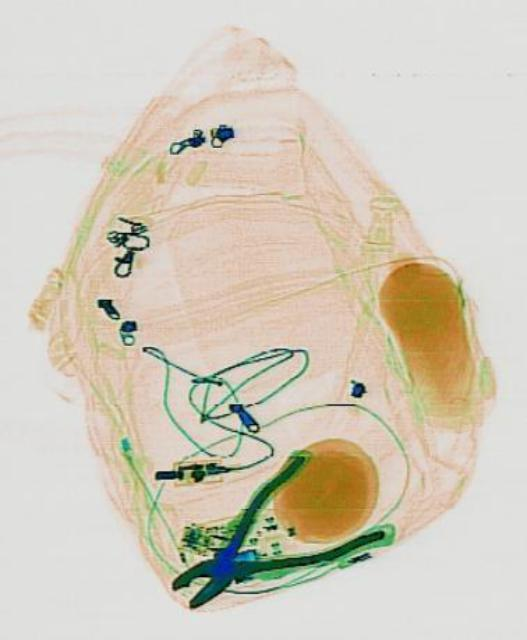Pliers: (146, 432, 383, 638)
